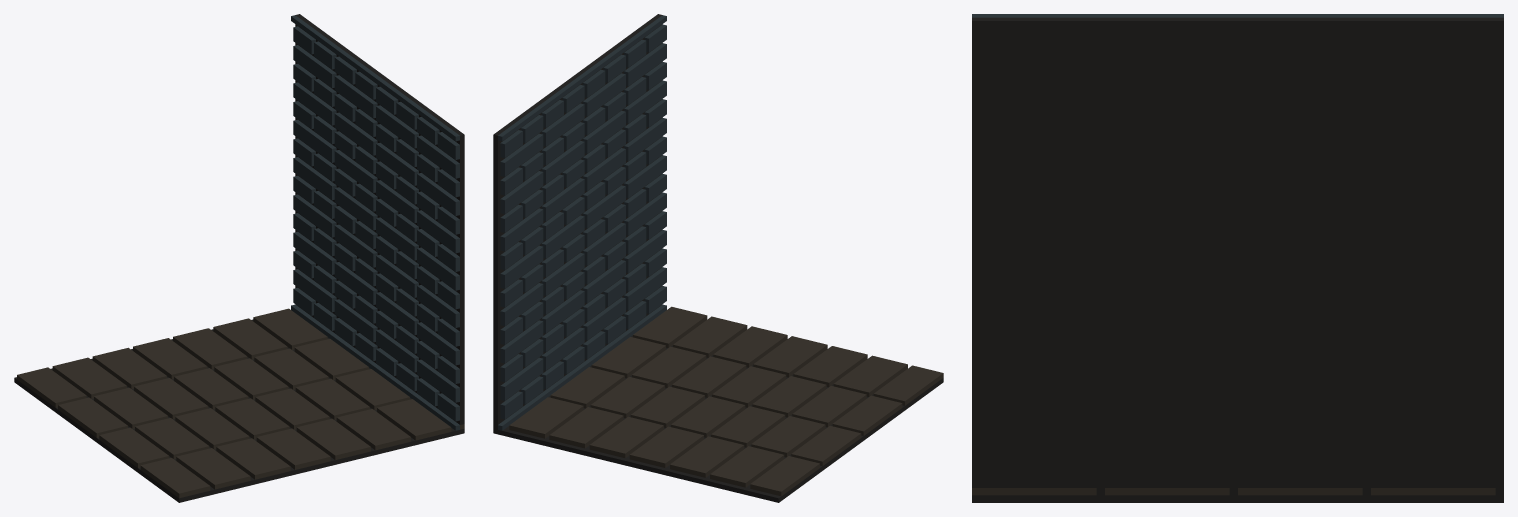
The model's file is corridor_1.obj.
The picture shows the model from 3 angles, left to right: view 1: azimuth 30°, elevation 25°; view 2: azimuth 150°, elevation 25°; view 3: azimuth 270°, elevation 25°; orthographic projection. The views are drawn at different scales.
Bounding box in the file's own units: 6.4 × 6.4 × 6.4.
1 material, 1 textured.
